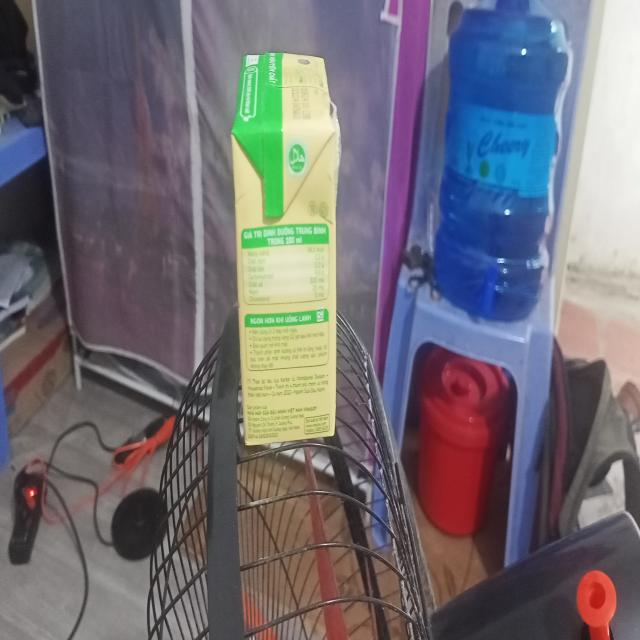Fami: (233, 54, 342, 440)
